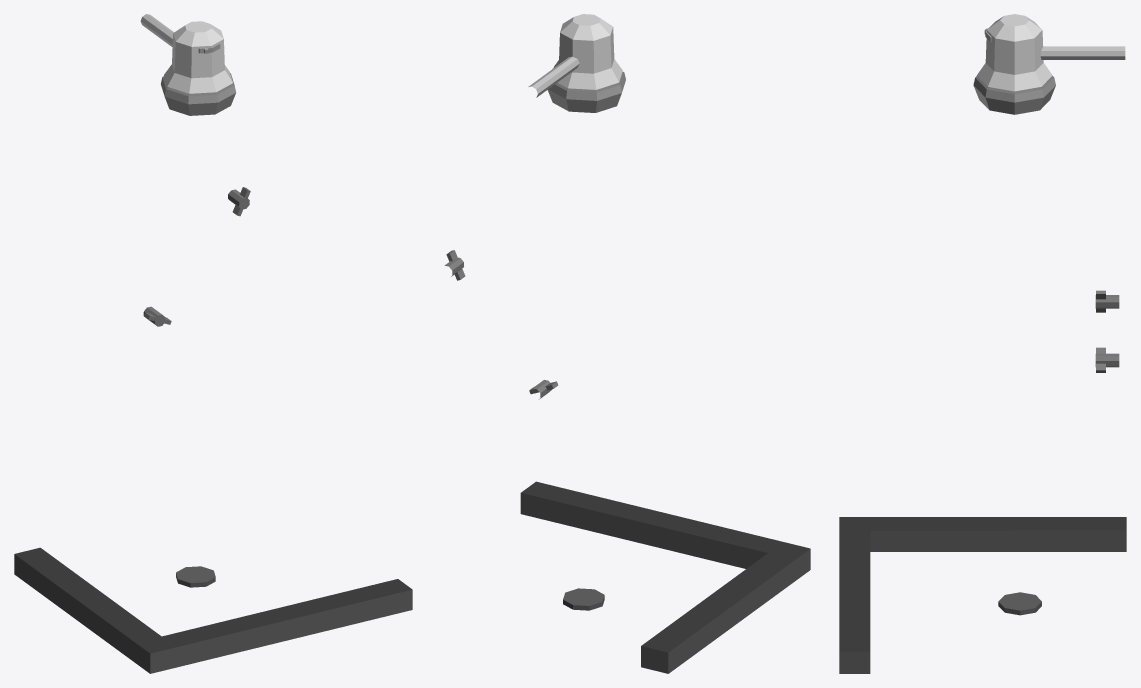
The model's file is PoorShower.glb.
3 renders of one model, left to right at view 1: azimuth 30°, elevation 25°; view 2: azimuth 150°, elevation 25°; view 3: azimuth 270°, elevation 25°, orthographic. The views are drawn at different scales.
Visible parts, largest first — view 1: PoorShower; view 2: PoorShower; view 3: PoorShower.
Part boxes in pixels (box(x1,y1,x2,y2)): PoorShower: box(14, 14, 412, 673); PoorShower: box(444, 14, 810, 673); PoorShower: box(839, 14, 1126, 673).
Bounding box in the file's own units: 1.28 × 2.58 × 1.15.
Materials: 1 (1 with a texture image).
